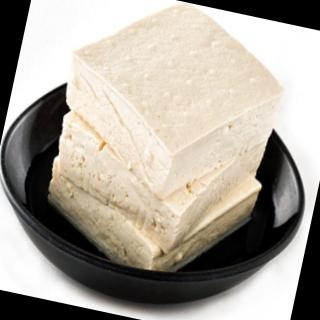Tahu: (6, 1, 320, 313)
